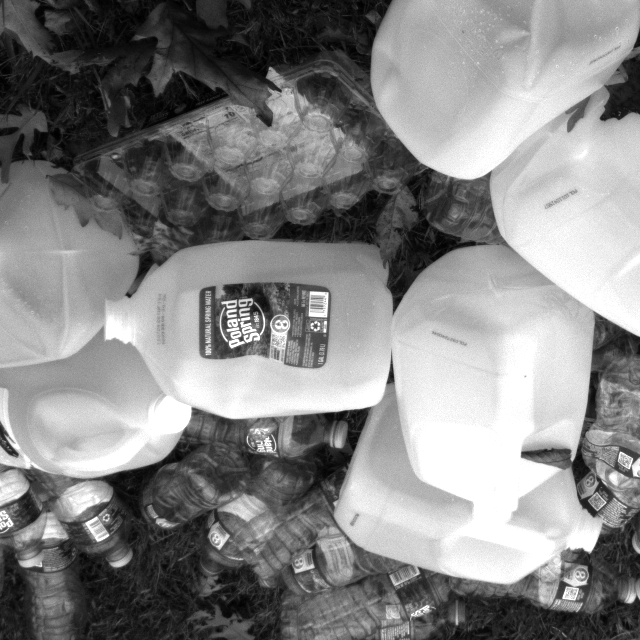bottle: (455, 544, 640, 624), (306, 554, 468, 640), (141, 431, 264, 538), (212, 456, 315, 575), (278, 585, 470, 640), (17, 493, 84, 640), (192, 398, 348, 461), (50, 463, 134, 578)
can: (391, 234, 596, 526), (332, 386, 605, 585), (101, 236, 391, 421), (369, 0, 640, 178), (488, 73, 640, 335), (0, 163, 152, 371), (0, 327, 187, 485)
container: (49, 57, 422, 270)
